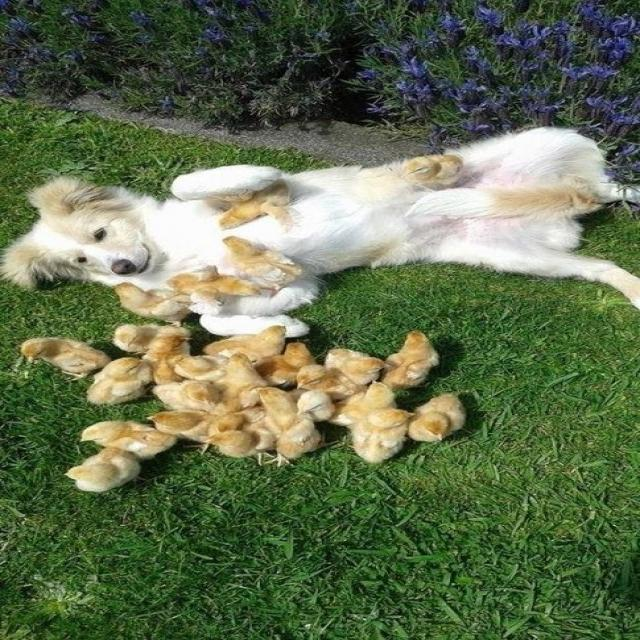Dogs: (7, 126, 634, 340)
